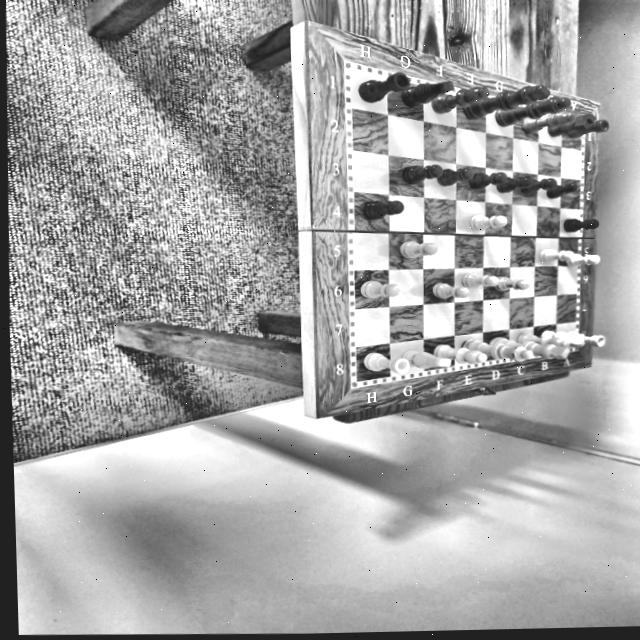black-bishop: (431, 82, 491, 114), (520, 108, 575, 136)
black-king: (460, 78, 552, 122)
black-knight: (402, 75, 456, 109), (546, 110, 596, 138)
black-pawn: (358, 196, 407, 225), (401, 159, 444, 187), (467, 168, 510, 194), (436, 163, 476, 189), (518, 173, 559, 195), (495, 173, 534, 196), (560, 214, 600, 234), (545, 179, 579, 199)
black-queen: (493, 90, 571, 127)
black-rook: (356, 67, 411, 104), (568, 116, 609, 139)
white-bishop: (428, 339, 489, 367), (516, 329, 570, 349)
white-king: (490, 332, 569, 361)
white-knight: (398, 342, 452, 374), (540, 329, 586, 349)
white-pawn: (357, 275, 402, 301), (465, 211, 508, 234), (396, 238, 439, 260), (429, 279, 470, 302), (537, 245, 575, 267), (490, 274, 531, 294), (563, 250, 601, 271), (458, 270, 499, 289)
white-queen: (459, 335, 534, 367)
white-rook: (361, 346, 411, 377), (568, 329, 606, 350)
